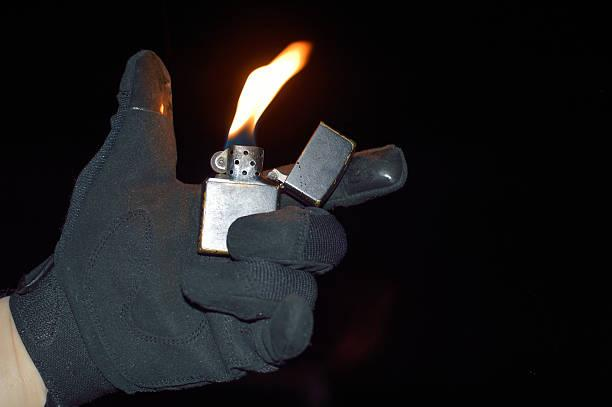Fire: (222, 29, 300, 144)
